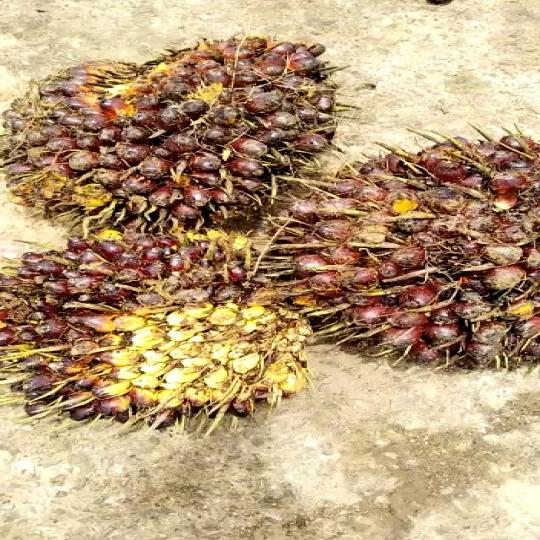kurang masak: (0, 29, 342, 233), (273, 127, 540, 372), (0, 236, 307, 426)
